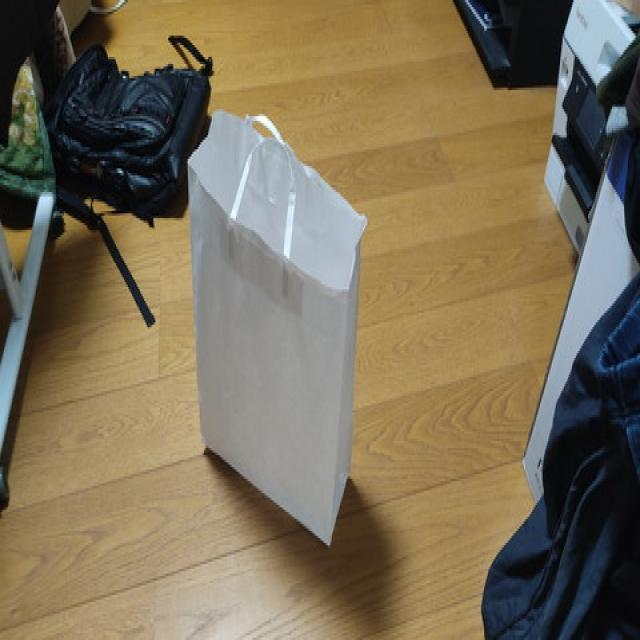paper bag: (183, 103, 371, 555)
